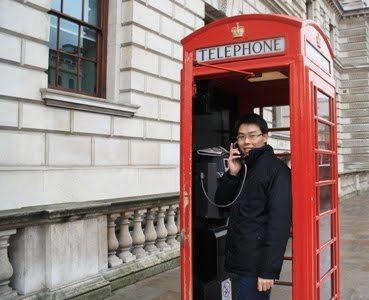person: (215, 113, 293, 300)
